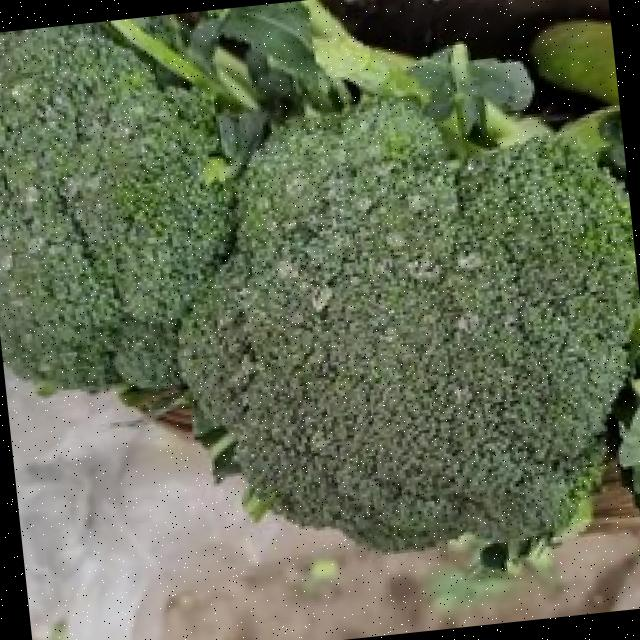Broccoli: (182, 101, 633, 548), (182, 101, 633, 547), (0, 25, 230, 387), (0, 25, 229, 387)
